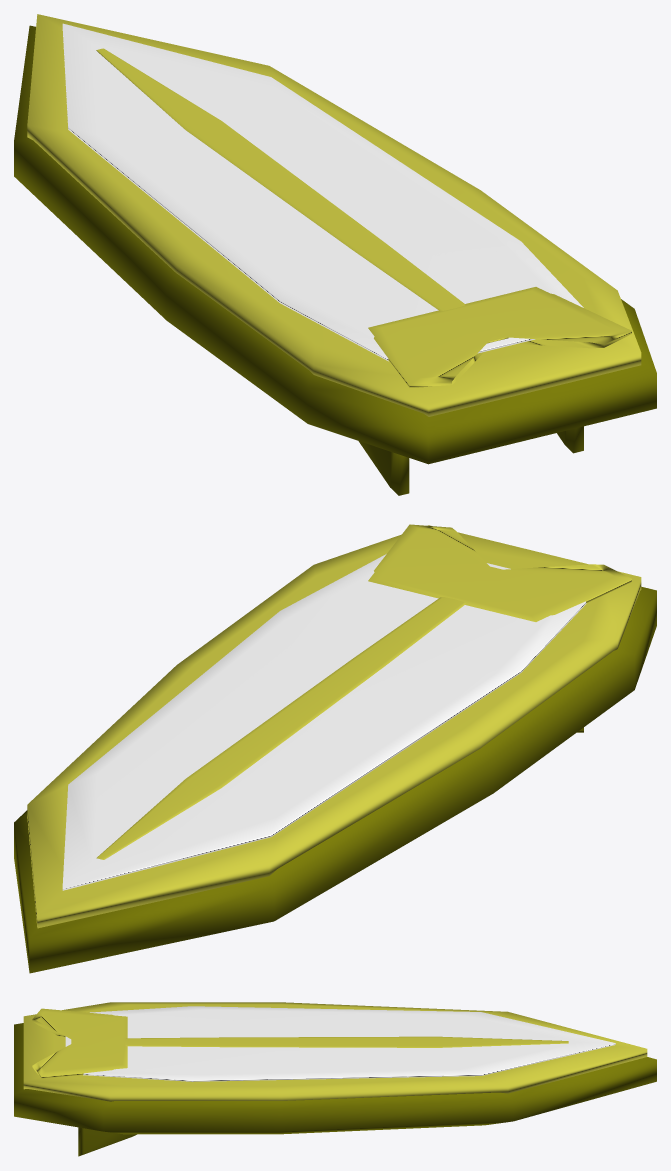
File: Surfboard.glb
The picture shows the model from 3 angles, top to bottom: view 1: azimuth 30°, elevation 25°; view 2: azimuth 150°, elevation 25°; view 3: azimuth 270°, elevation 25°; orthographic projection. The views are drawn at different scales.
Visible parts, largest first — view 1: Deck, UpperShell, Body, TailCrest, CentreStripe, LeftFin; view 2: Deck, UpperShell, Body, TailCrest, CentreStripe; view 3: Deck, Body, UpperShell, TailCrest, CentreStripe, RightFin.
Part boxes in pixels (left/top/right/bottom): Deck: left=62, top=23, right=583, bottom=361; UpperShell: left=27, top=14, right=641, bottom=416; Body: left=14, top=25, right=656, bottom=464; TailCrest: left=368, top=287, right=631, bottom=387; CentreStripe: left=96, top=48, right=508, bottom=343; LeftFin: left=358, top=441, right=409, bottom=495; Deck: left=62, top=554, right=586, bottom=890; UpperShell: left=27, top=525, right=641, bottom=928; Body: left=14, top=586, right=656, bottom=973; TailCrest: left=368, top=524, right=631, bottom=621; CentreStripe: left=96, top=566, right=501, bottom=859; Deck: left=65, top=1006, right=615, bottom=1081; Body: left=14, top=1023, right=656, bottom=1134; UpperShell: left=23, top=1002, right=647, bottom=1101; TailCrest: left=32, top=1008, right=127, bottom=1078; CentreStripe: left=71, top=1036, right=568, bottom=1047; RightFin: left=78, top=1127, right=136, bottom=1156.
Size of the model in its own units: 0.5768 by 0.2331 by 1.57.
1 material, 1 textured.
